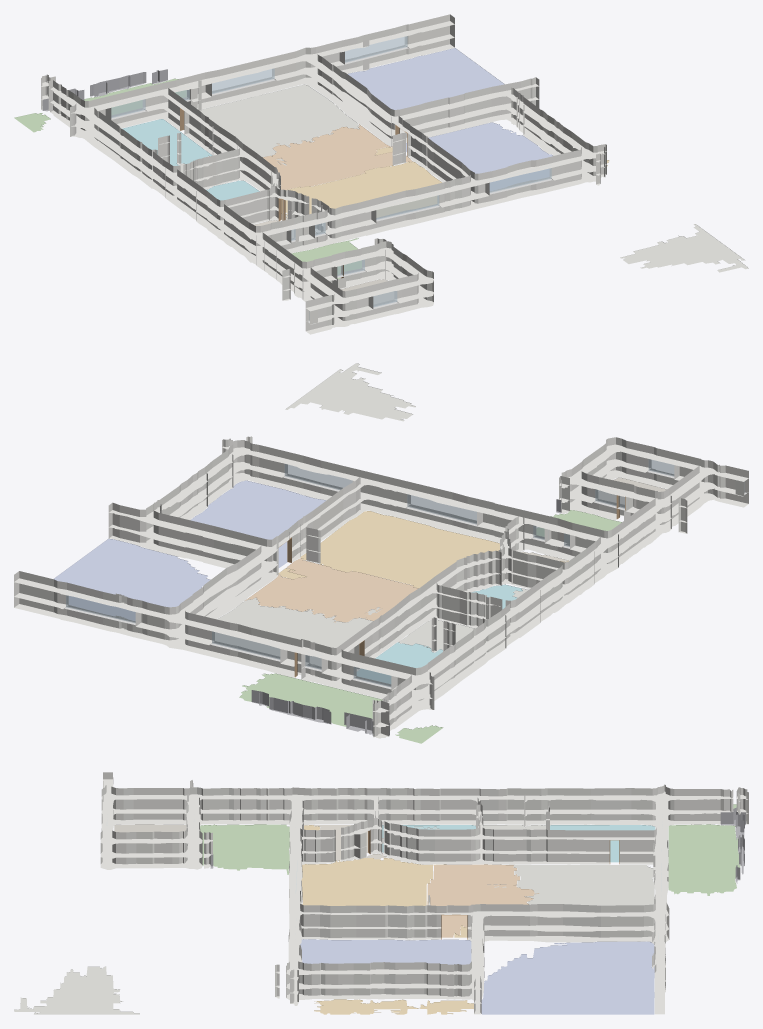
3 renders of one model, top to bottom at view 1: azimuth 30°, elevation 25°; view 2: azimuth 150°, elevation 25°; view 3: azimuth 270°, elevation 25°, orthographic. The views are drawn at different scales.
Parts seen in each view (by area): view 1: walls, floor_21_Undefined, floor_10_Bed_Room, floor_8_Living_Room, floor_9_Bed_Room, floor_5_Kitchen, floor_16_Undefined, floor_12_Bath, railings, floor_0_Outdoor, window_9, window_11 (+4 smaller); view 2: walls, floor_5_Kitchen, floor_10_Bed_Room, floor_8_Living_Room, floor_9_Bed_Room, floor_21_Undefined, floor_16_Undefined, floor_2_Outdoor, railings, floor_12_Bath, floor_20_Undefined, window_10 (+4 smaller); view 3: walls, floor_10_Bed_Room, floor_5_Kitchen, floor_21_Undefined, floor_2_Outdoor, floor_8_Living_Room, floor_9_Bed_Room, floor_0_Outdoor, floor_16_Undefined, floor_7_Kitchen, floor_12_Bath, railings (+1 smaller).
Part boxes in pixels (left/top/right/bottom): walls: left=41, top=14, right=606, bottom=334; floor_21_Undefined: left=200, top=84, right=359, bottom=157; floor_10_Bed_Room: left=347, top=48, right=504, bottom=109; floor_8_Living_Room: left=262, top=124, right=412, bottom=189; floor_9_Bed_Room: left=406, top=122, right=553, bottom=190; floor_5_Kitchen: left=281, top=161, right=442, bottom=217; floor_16_Undefined: left=620, top=224, right=748, bottom=272; floor_12_Bath: left=122, top=119, right=212, bottom=165; railings: left=42, top=69, right=167, bottom=111; floor_0_Outdoor: left=291, top=238, right=361, bottom=278; window_9: left=345, top=36, right=407, bottom=62; window_11: left=489, top=168, right=551, bottom=192; walls: left=14, top=436, right=748, bottom=738; floor_5_Kitchen: left=300, top=511, right=499, bottom=588; floor_10_Bed_Room: left=53, top=538, right=210, bottom=620; floor_8_Living_Room: left=245, top=558, right=418, bottom=622; floor_9_Bed_Room: left=190, top=480, right=326, bottom=567; floor_21_Undefined: left=215, top=597, right=372, bottom=666; floor_16_Undefined: left=285, top=363, right=415, bottom=421; floor_2_Outdoor: left=239, top=673, right=382, bottom=726; railings: left=251, top=499, right=561, bottom=735; floor_12_Bath: left=357, top=642, right=442, bottom=683; floor_20_Undefined: left=399, top=619, right=474, bottom=650; window_10: left=407, top=494, right=476, bottom=524; walls: left=100, top=772, right=748, bottom=1014; floor_10_Bed_Room: left=481, top=941, right=654, bottom=1014; floor_5_Kitchen: left=301, top=858, right=446, bottom=906; floor_21_Undefined: left=513, top=865, right=654, bottom=905; floor_2_Outdoor: left=668, top=824, right=740, bottom=895; floor_8_Living_Room: left=427, top=864, right=539, bottom=937; floor_9_Bed_Room: left=300, top=939, right=471, bottom=964; floor_0_Outdoor: left=200, top=824, right=289, bottom=874; floor_16_Undefined: left=14, top=966, right=139, bottom=1014; floor_7_Kitchen: left=314, top=999, right=473, bottom=1014; floor_12_Bath: left=550, top=825, right=655, bottom=862; railings: left=210, top=807, right=745, bottom=883.
Bounding box in the file's own units: 38.1 × 2.72 × 56.32.
